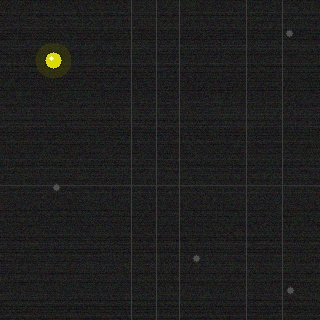yellow_warning: (43, 50, 63, 70)
